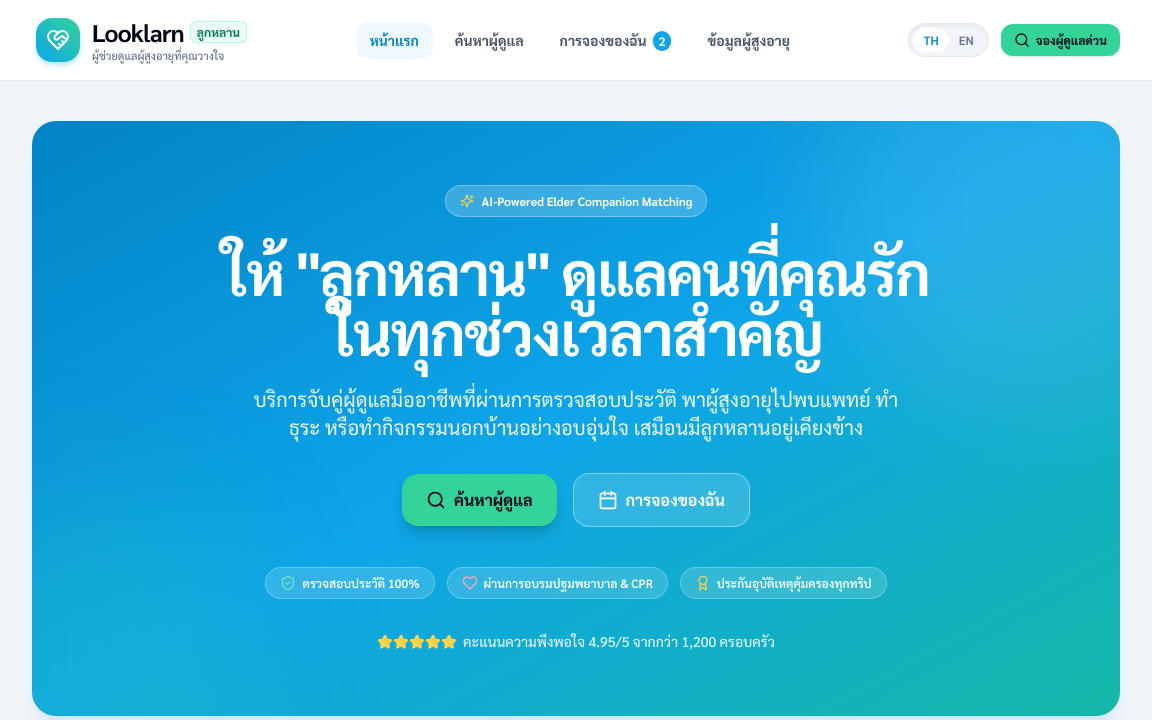
Tier 1: Core Feature Coverage across 7 Routes & Components › Feature 1: Language Context & i18n System › 1.2 should switch all UI text to English when EN toggle is clicked
The image size is (1152, 720).
Click the button "EN": (966, 40) top-left (949, 28), bottom-right (984, 52)
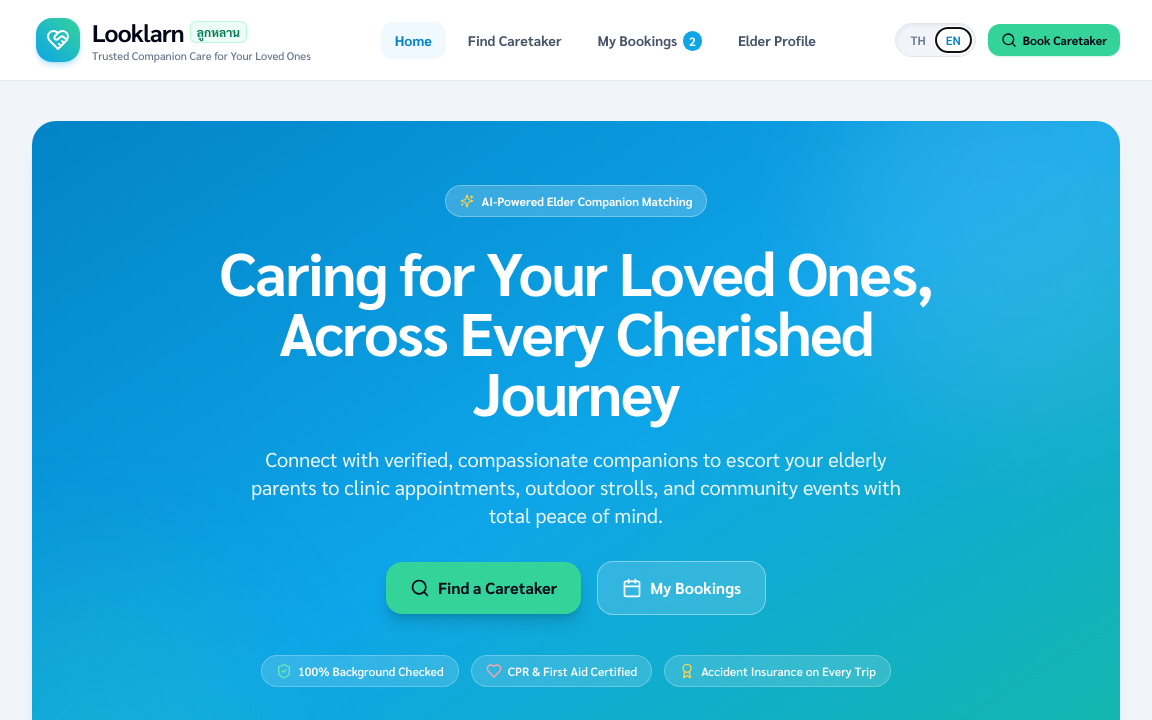
expect the text "Find a Caretaker" is shown: met, box top-left (438, 576), bottom-right (557, 600)
